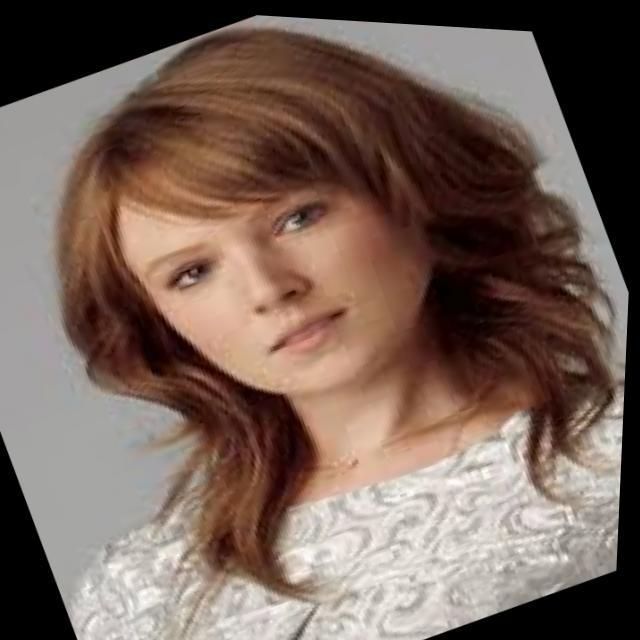Nonhelmet: (89, 25, 491, 419)
